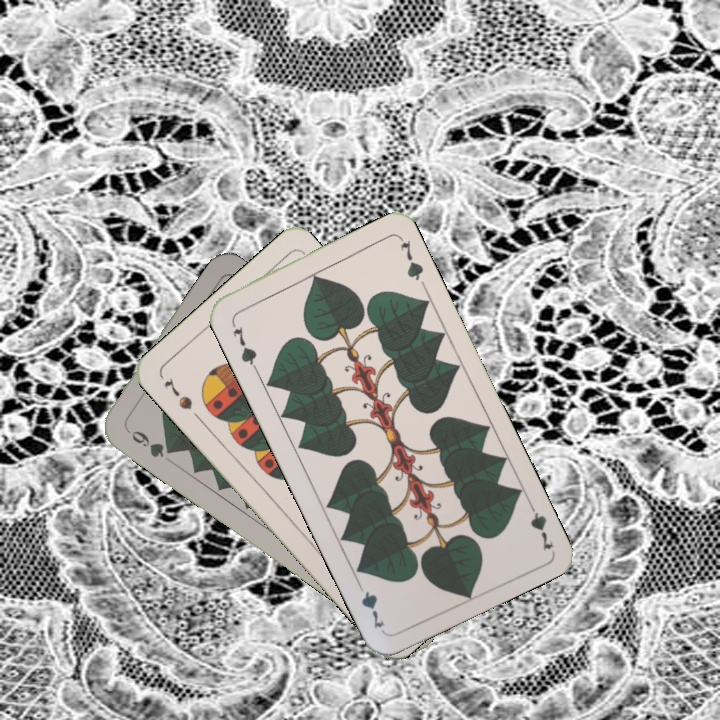G7: (523, 495, 556, 554), (227, 317, 260, 372)
G9: (121, 424, 178, 460)
S7: (160, 373, 196, 413)
